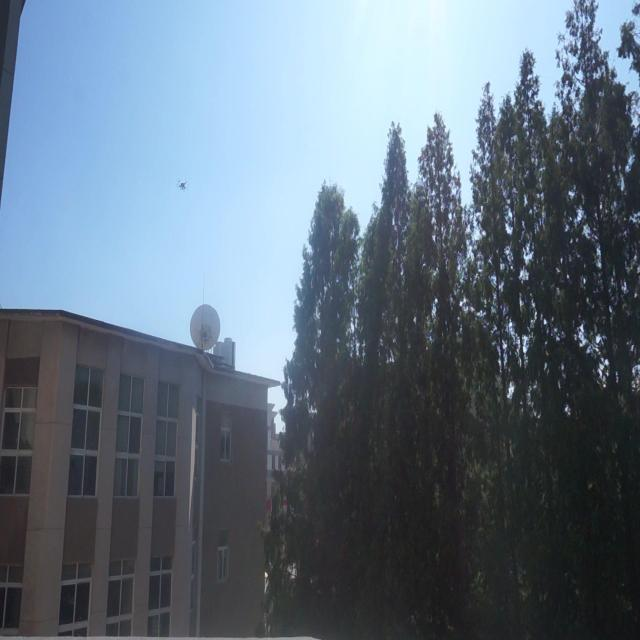drone: (175, 174, 189, 192)
